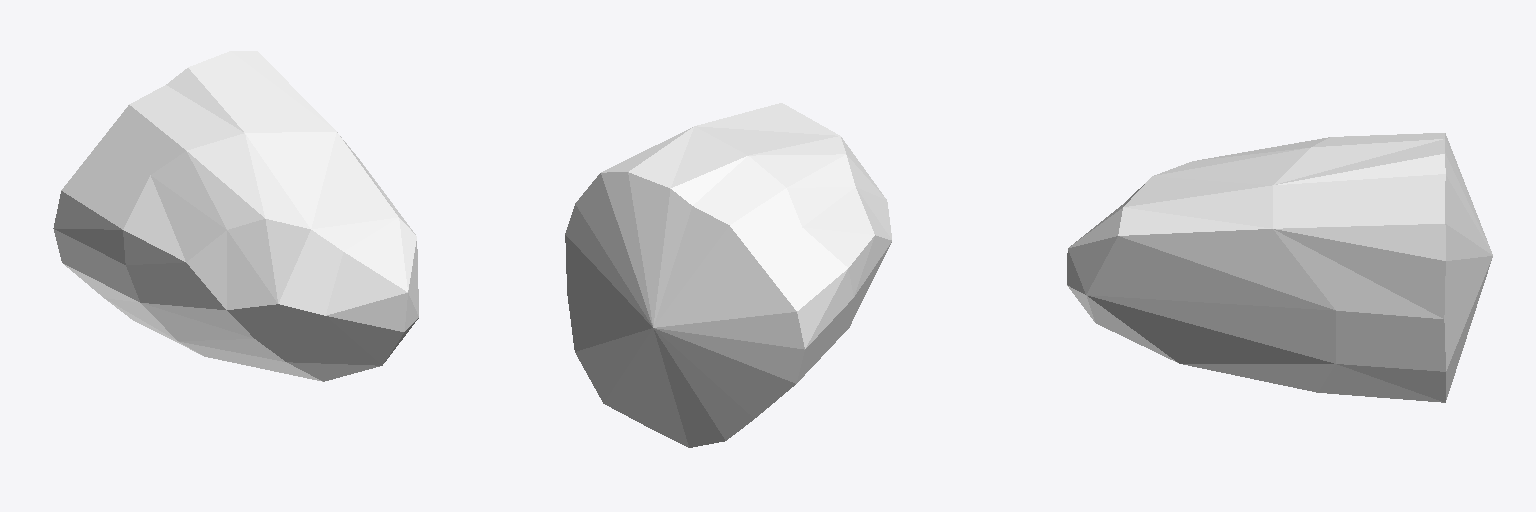
File: Rock1.obj
3 views of the same model, side by side, from view 1: azimuth 30°, elevation 25°; view 2: azimuth 150°, elevation 25°; view 3: azimuth 270°, elevation 25° (orthographic).
Parts seen in each view (by area): view 1: 0_0; view 2: 0_0; view 3: 0_0.
Boxes of the visible parts, <box> form: 0_0: <box>53,51,418,381</box>; 0_0: <box>565,103,891,447</box>; 0_0: <box>1067,133,1492,402</box>.
Bounding box in the file's own units: 3.32 × 3.45 × 5.11.